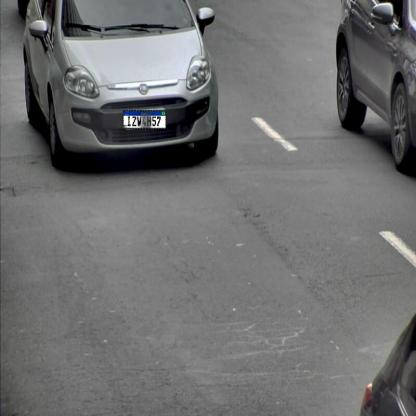PlacaM: (123, 110, 166, 129)
